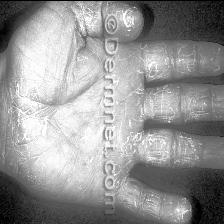Non-Cancerous Skin Condition: (11, 79, 49, 175), (145, 42, 219, 79), (146, 84, 224, 118), (129, 128, 177, 162), (73, 0, 103, 29), (122, 6, 140, 27)
